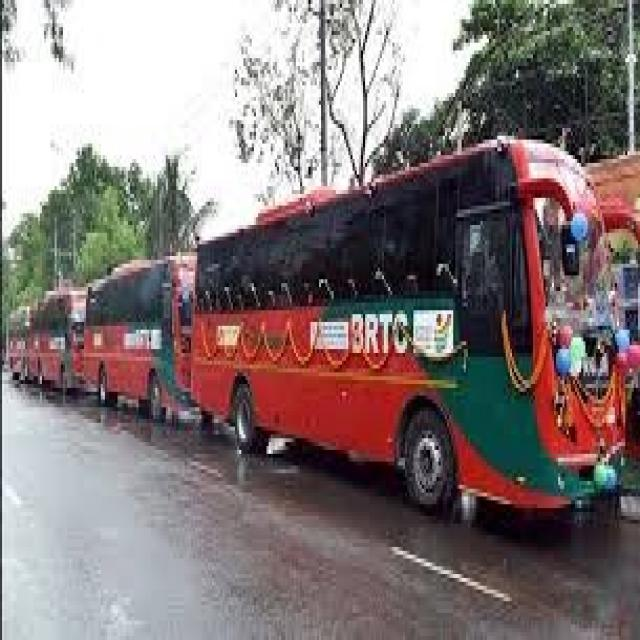bus: (183, 118, 628, 530), (82, 243, 203, 457), (32, 270, 96, 423), (6, 286, 33, 394)
